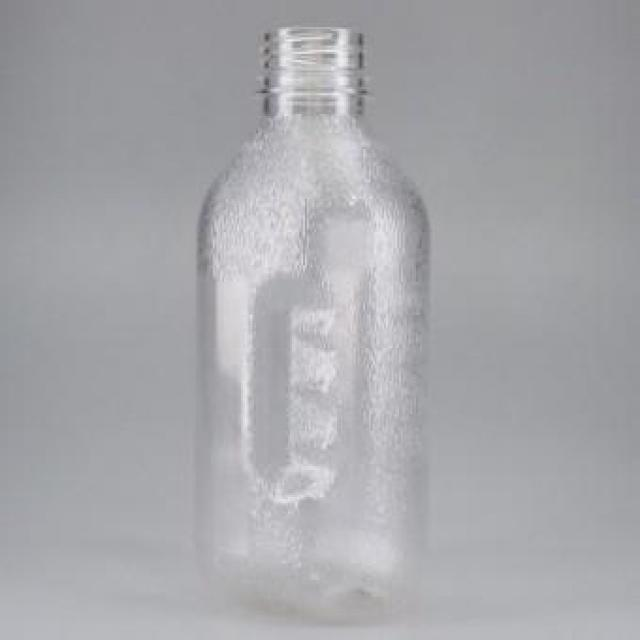bottle: (178, 12, 442, 586)
